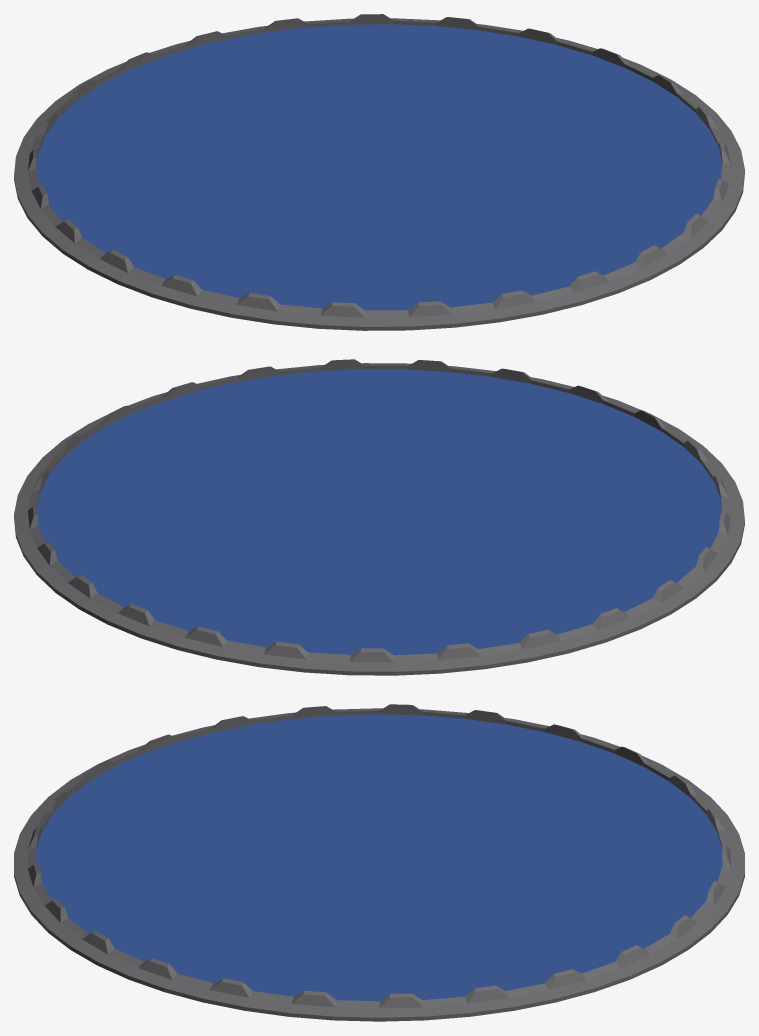
File: Crossing_Base.fbx
3 renders of one model, top to bottom at view 1: azimuth 30°, elevation 25°; view 2: azimuth 150°, elevation 25°; view 3: azimuth 270°, elevation 25°, orthographic.
Visible parts, largest first — view 1: Crossing_Base; view 2: Crossing_Base; view 3: Crossing_Base.
Boxes of the visible parts, x1,y1,x2,y2 form: Crossing_Base: (14,14,744,330); Crossing_Base: (14,359,744,675); Crossing_Base: (14,704,744,1021).
Size of the model in its own units: 598 by 15.92 by 596.
